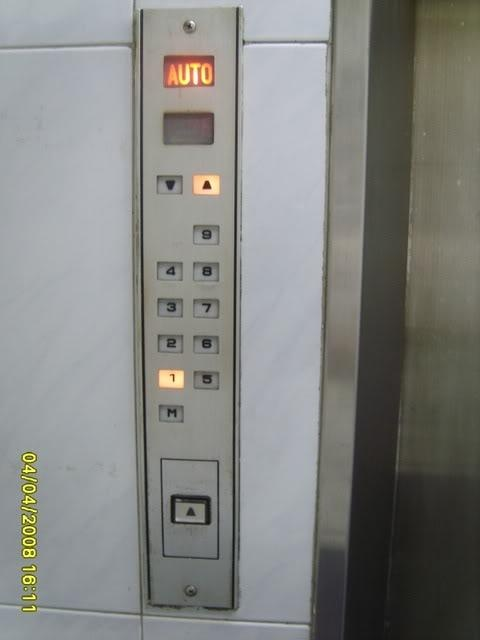1: (157, 366, 187, 390)
2: (155, 331, 185, 355)
3: (155, 295, 185, 319)
4: (155, 259, 185, 283)
5: (191, 367, 221, 391)
6: (191, 332, 221, 356)
7: (191, 296, 221, 320)
8: (191, 260, 221, 282)
9: (191, 223, 221, 246)
M: (156, 401, 186, 425)
down: (155, 172, 185, 197)
led: (161, 109, 216, 146), (161, 53, 216, 89)
up: (170, 492, 213, 526), (191, 173, 222, 196)
